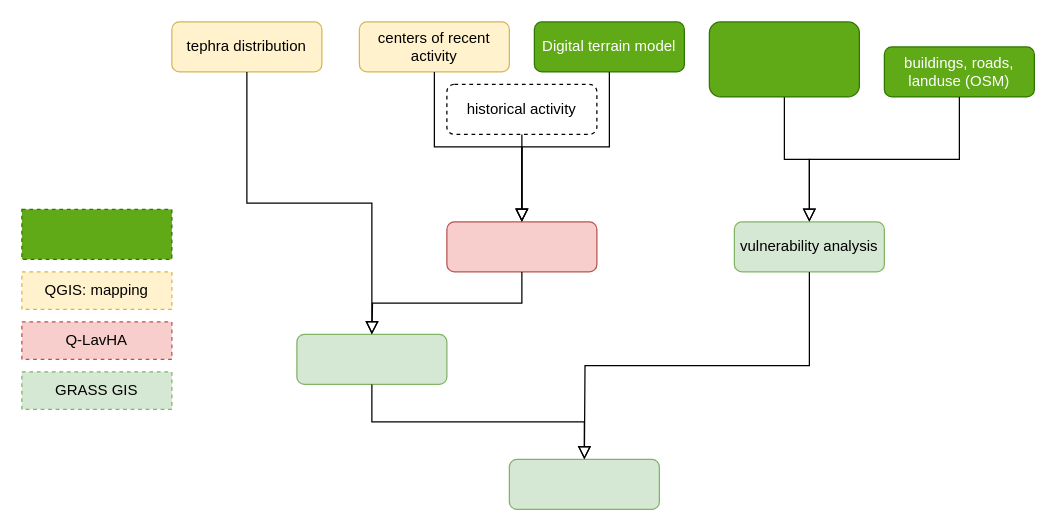
Image size: 1056x531. Some labels were removed from this diagram. Each missing label, with the box of its shape:
GRASS GIS: preprocessing: (21, 208, 172, 259)
hazard analysis: (296, 333, 447, 384)
Lava flood simulation: (446, 221, 597, 272)
population data (ISTAT)(population density, communal level): (708, 21, 859, 97)
risk analysis: (508, 458, 659, 509)
